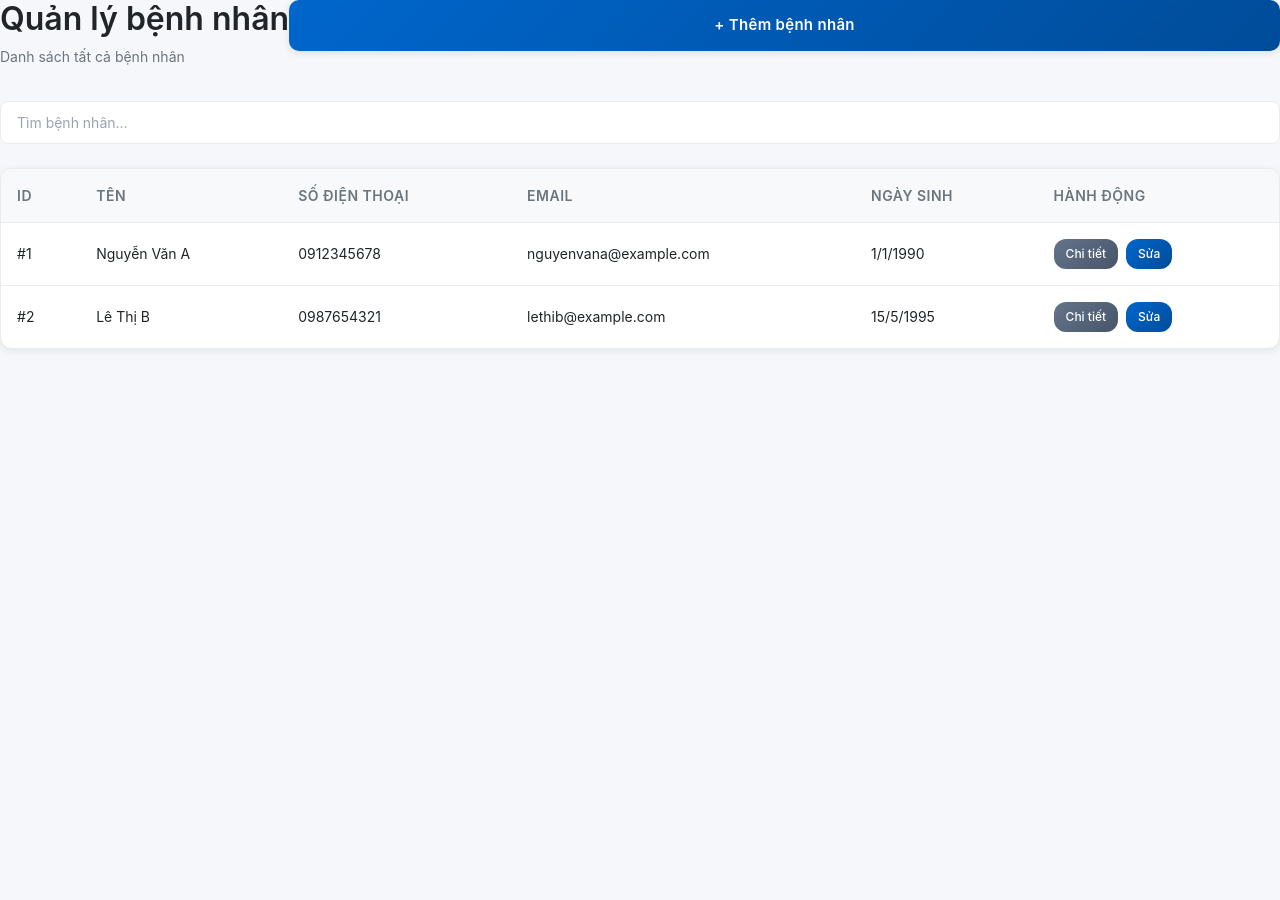
Test: PatientList › opens patient details
The width and height of the screenshot is (1280, 900).
Click the button "Chi tiết" in the row of "Nguyễn Văn A": (1086, 254) [1054,239,1118,269]
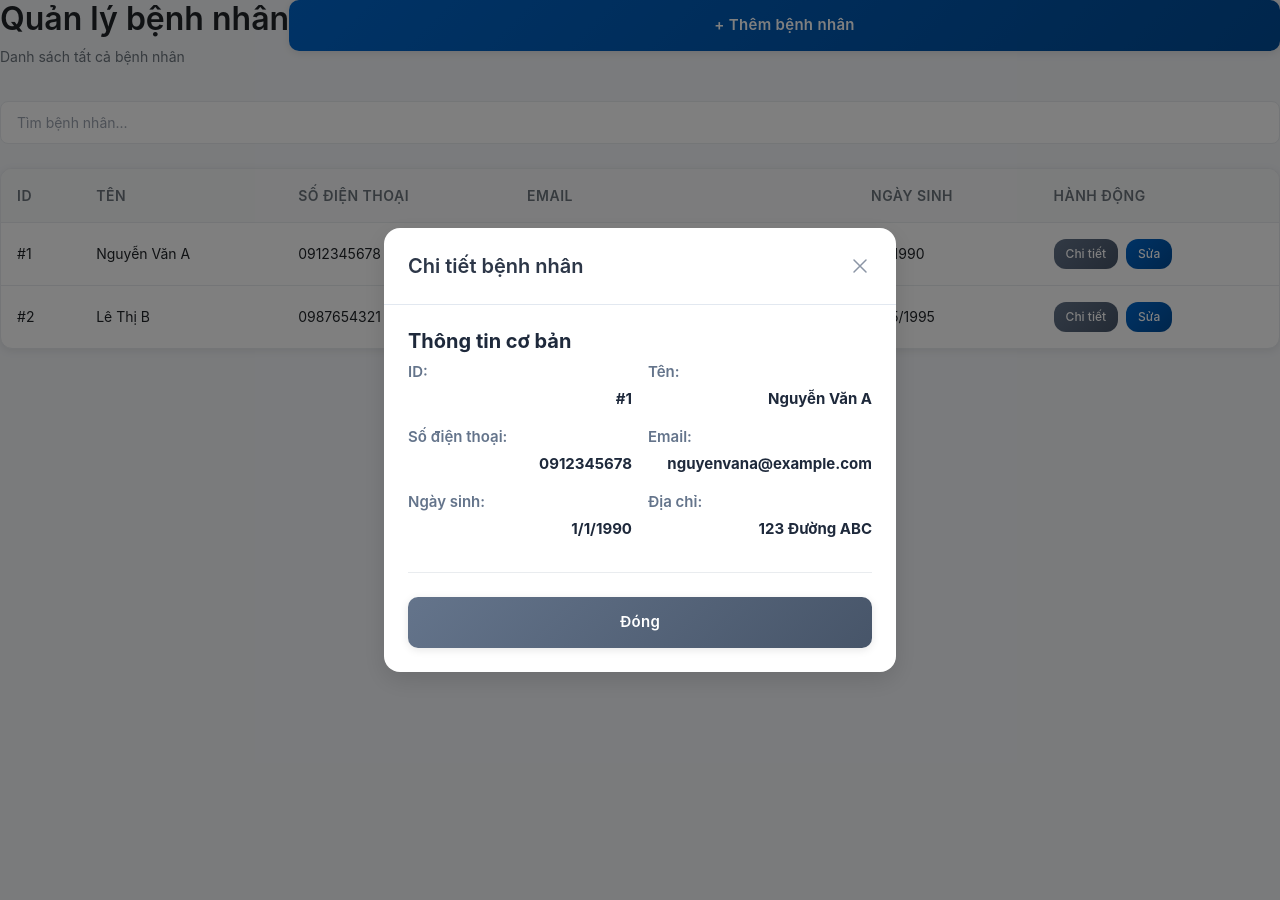
Result: the heading "Chi tiết bệnh nhân" is shown at [408,252,584,280]
